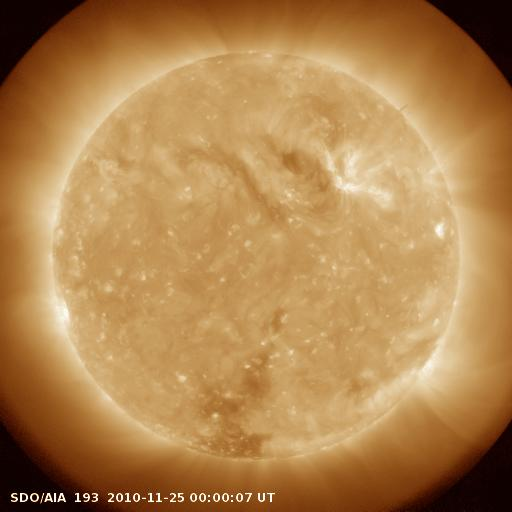coronal_hole: (189, 307, 283, 463), (276, 142, 318, 179)
